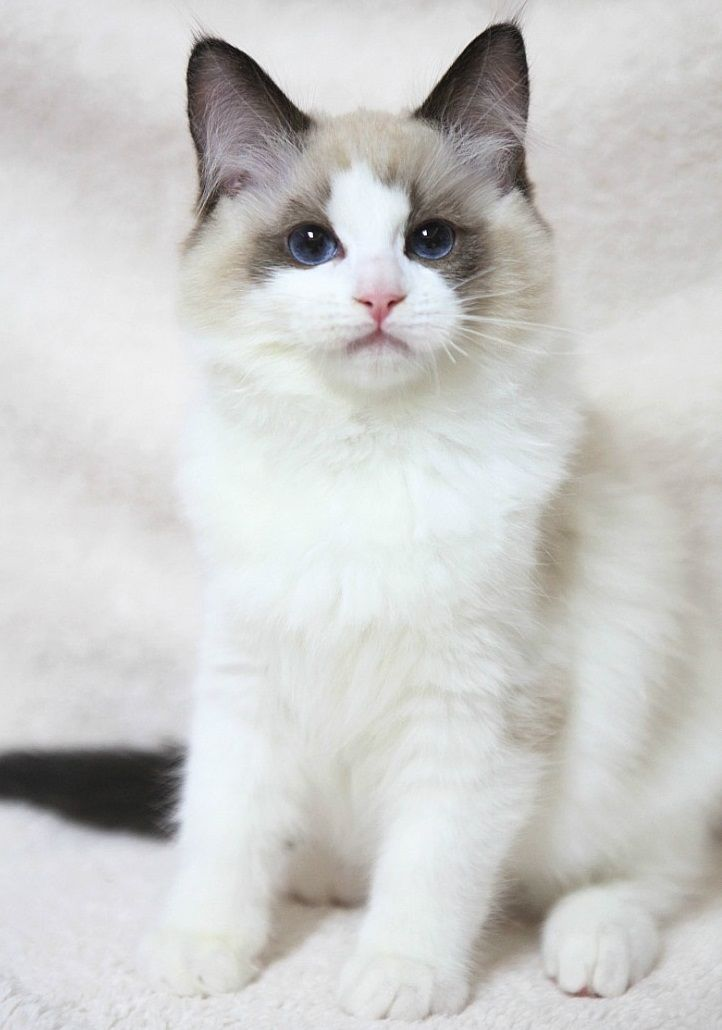cat: (5, 20, 722, 1018)
cat-face: (162, 19, 579, 440)
